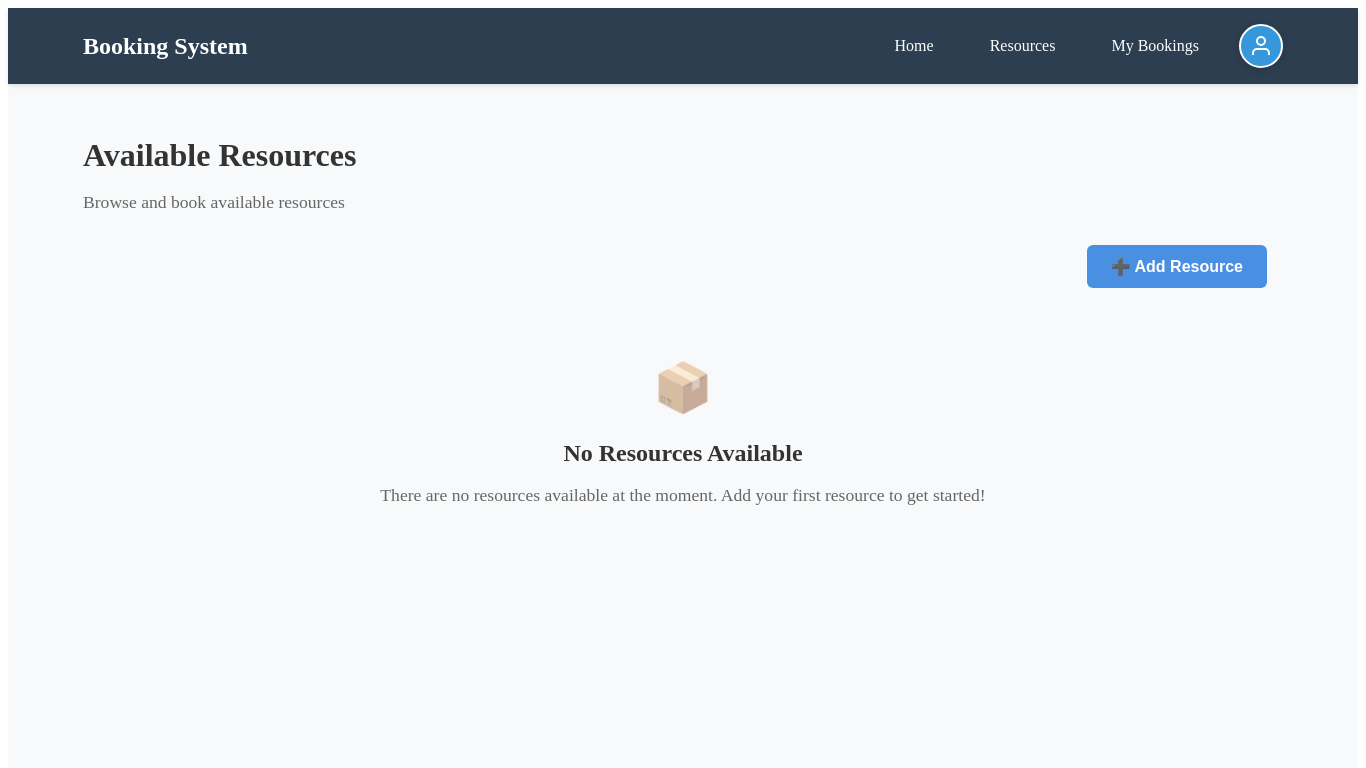
Scenario: ResourceListPage › Admin - Add Resource Functionality › validates required fields when creating resource
Click the button with aria-label "add new resource": (1177, 266) [1087,245,1267,288]
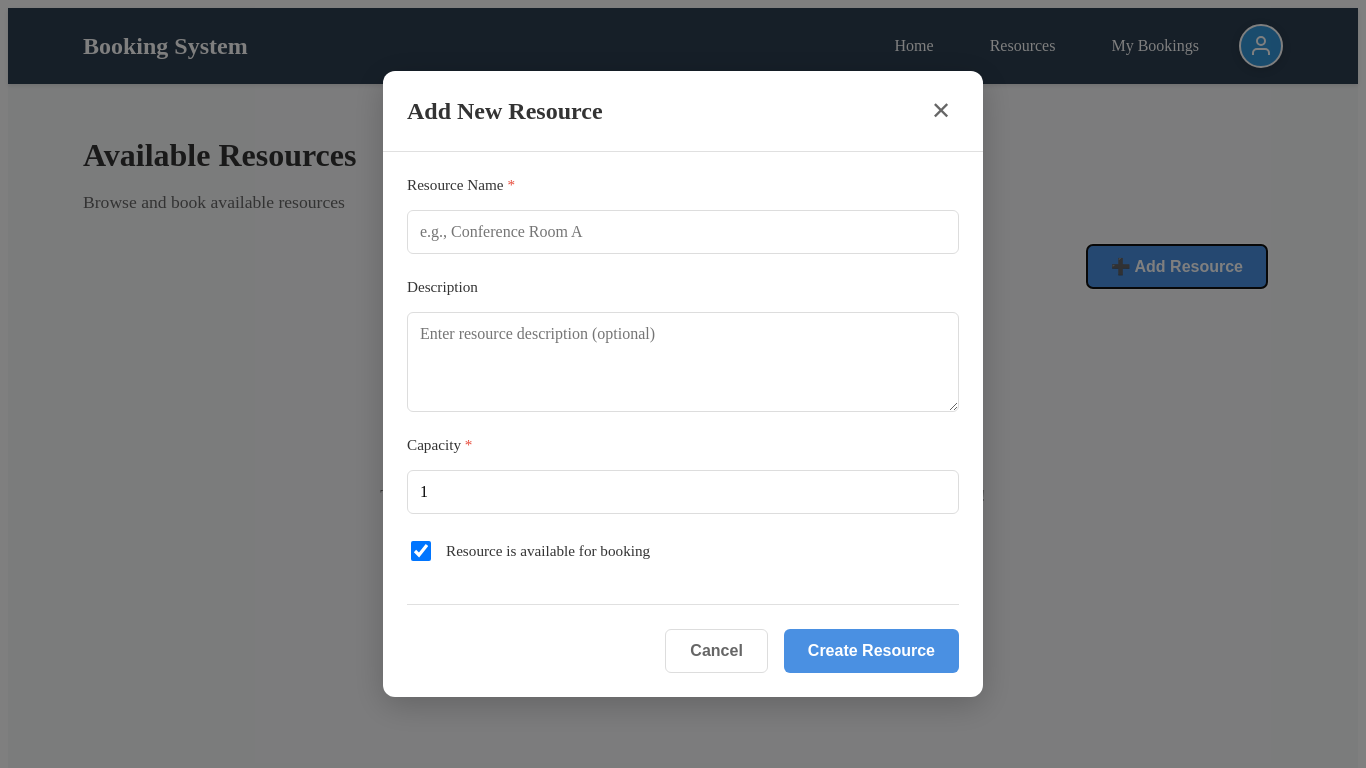
Click the button "Create Resource": (871, 651) [784,629,959,673]
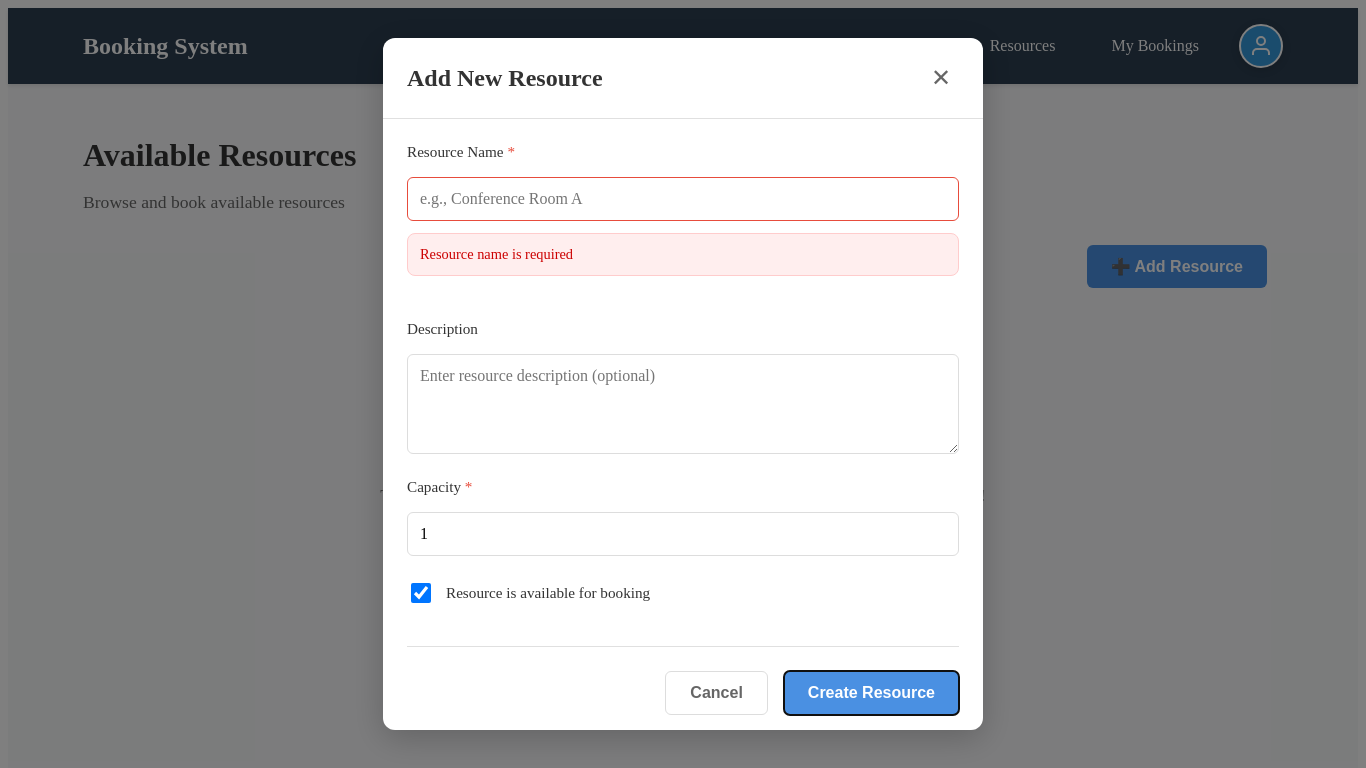
Expected: the text "Resource name is required" is shown, [407,233,959,276]
